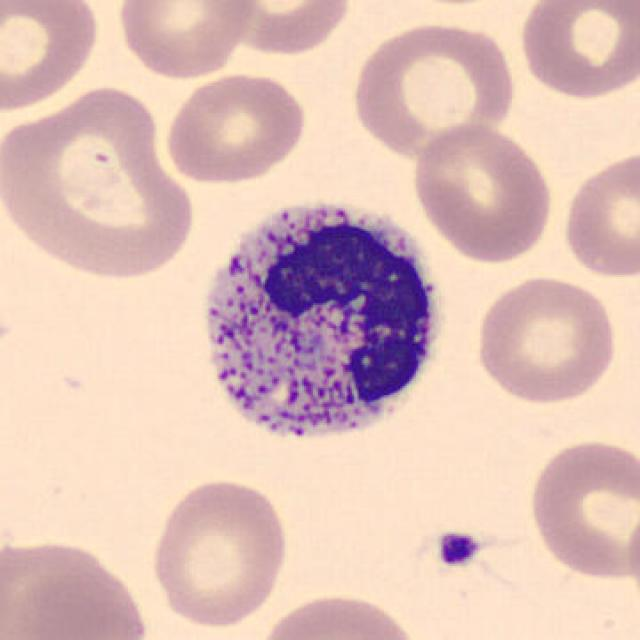Neutrophil: (187, 187, 455, 469)
Platelets: (434, 527, 484, 570)
RBC: (0, 81, 199, 282), (347, 18, 519, 160), (146, 473, 292, 631), (409, 120, 556, 266), (471, 272, 622, 408), (162, 69, 309, 187), (523, 434, 638, 584), (0, 536, 153, 640), (515, 0, 638, 102), (0, 0, 105, 115), (112, 0, 260, 81), (558, 146, 638, 282), (252, 587, 425, 640), (210, 0, 354, 58), (622, 499, 640, 622)
